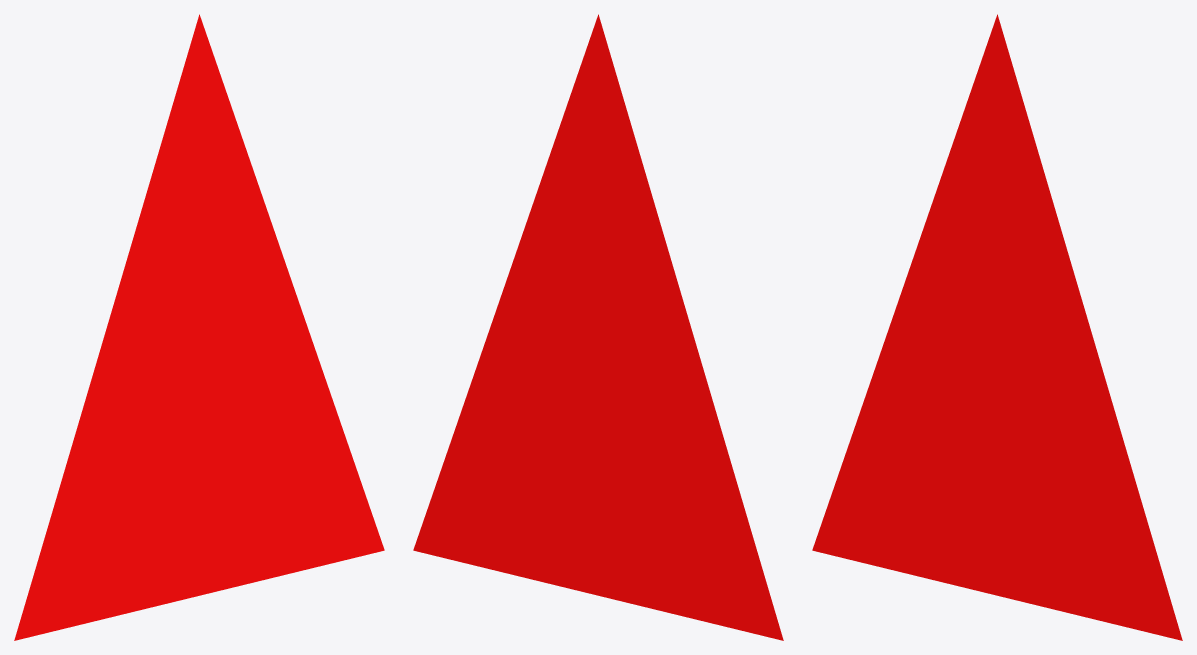
Rendered from morphs.glb.
3 views of the same model, side by side, from view 1: azimuth 30°, elevation 25°; view 2: azimuth 150°, elevation 25°; view 3: azimuth 330°, elevation 25° (orthographic).
Parts seen in each view (by area): view 1: face; view 2: face; view 3: face.
Boxes of the visible parts, x1,y1,x2,y2 form: face: [14, 14, 384, 640]; face: [413, 14, 783, 640]; face: [812, 14, 1182, 640].
Bounding box in the file's own units: 0.2 × 0.3 × 0.
